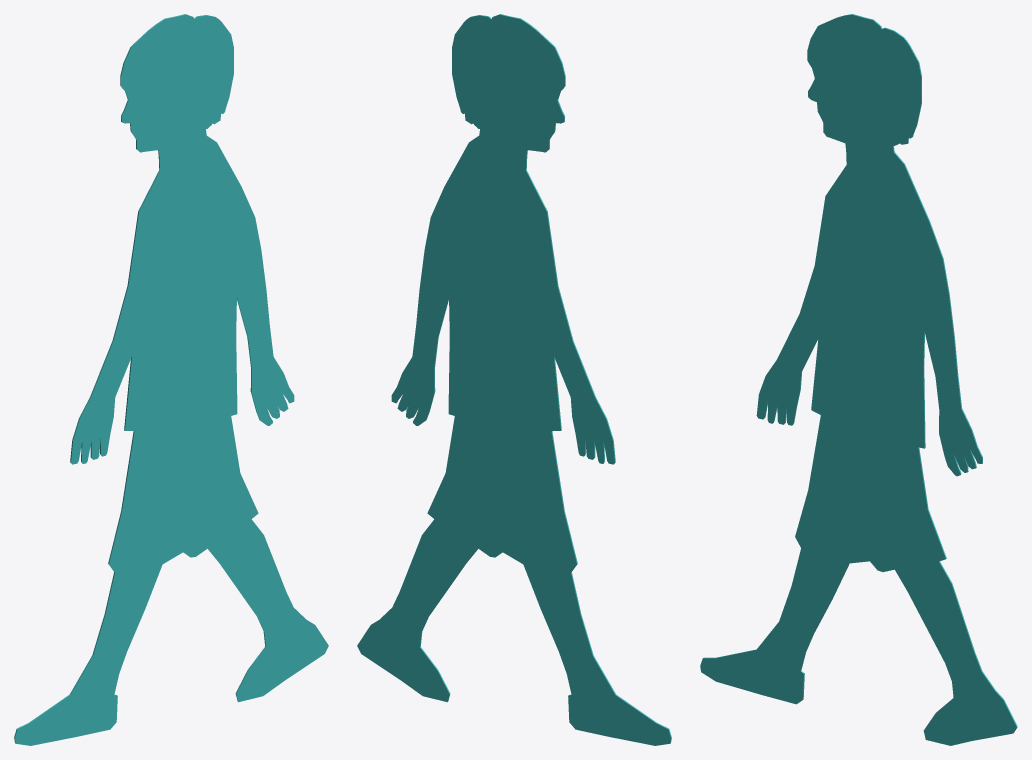
Rendered from boy_moving.fbx.
3 renders of one model, left to right at view 1: azimuth 30°, elevation 25°; view 2: azimuth 150°, elevation 25°; view 3: azimuth 330°, elevation 25°, orthographic.
Visible parts, largest first — view 1: boy_moving1; view 2: boy_moving1; view 3: boy_moving1.
Boxes of the visible parts, x1,y1,x2,y2 form: boy_moving1: (14,14,328,745); boy_moving1: (357,14,671,745); boy_moving1: (700,14,1017,745).
Bounding box in the file's own units: 13.94 × 29.73 × 0.0644.
